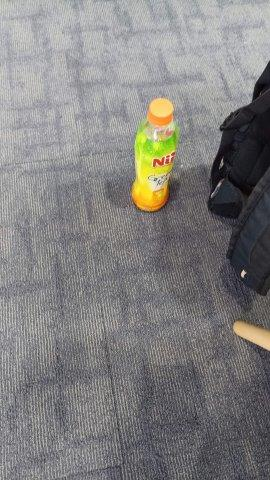botolplastik: (131, 99, 179, 211)
